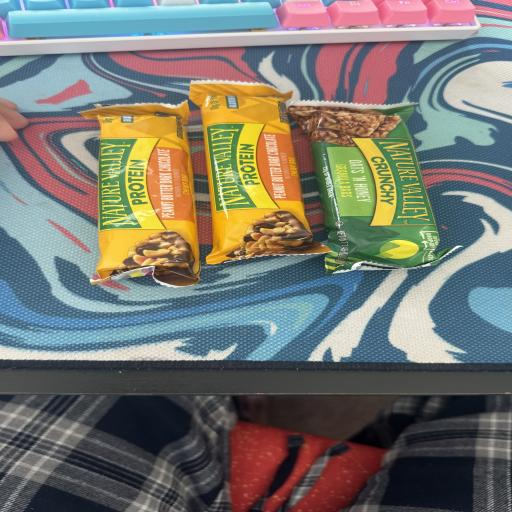granola: (81, 102, 405, 286), (289, 102, 452, 274), (190, 81, 328, 264)
